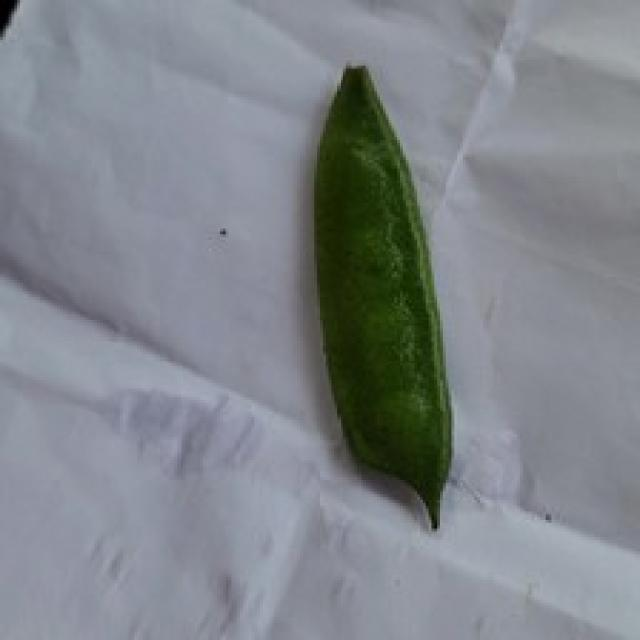Bean: (308, 60, 452, 529)
